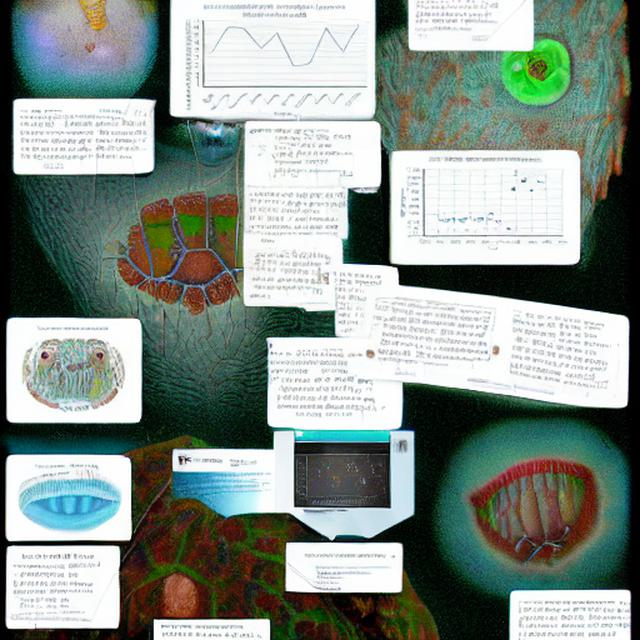Graph: (182, 1, 371, 117), (394, 152, 572, 257), (294, 452, 380, 507)
